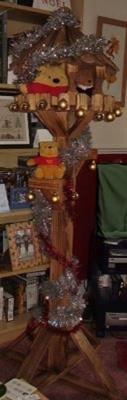cat: (96, 163, 127, 238)
